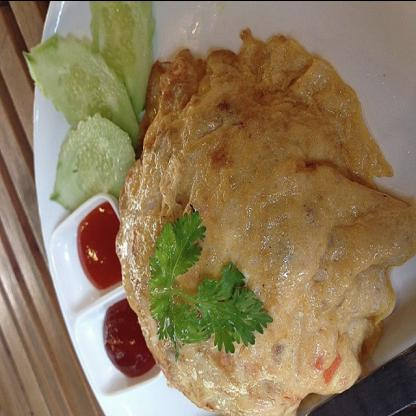Omelette: (91, 30, 409, 396)
